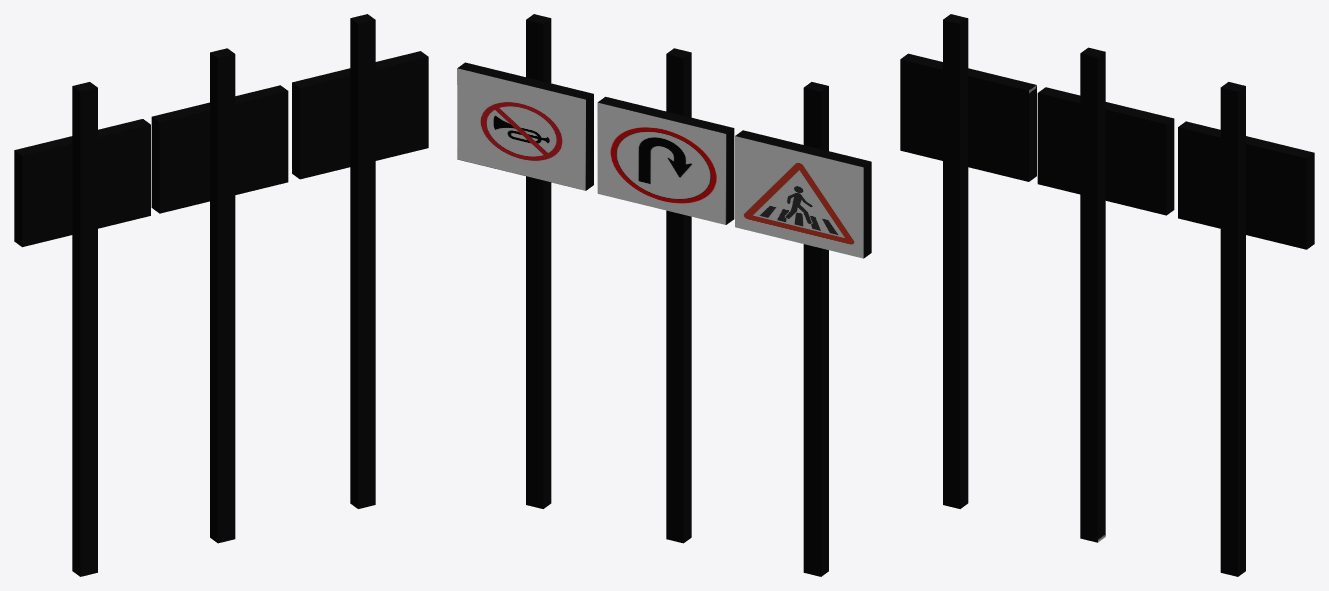
The model's file is board 1.fbx.
The picture shows the model from 3 angles, left to right: view 1: azimuth 30°, elevation 25°; view 2: azimuth 150°, elevation 25°; view 3: azimuth 330°, elevation 25°; orthographic projection.
Parts seen in each view (by area): view 1: no_horn1, no_horn3, no_horn2; view 2: no_horn1, no_horn2, no_horn3; view 3: no_horn1, no_horn2, no_horn3.
Boxes of the visible parts, x1,y1,x2,y2 form: no_horn1: [151, 48, 288, 543]; no_horn3: [14, 82, 150, 576]; no_horn2: [292, 14, 428, 508]; no_horn1: [597, 48, 734, 543]; no_horn2: [457, 14, 593, 508]; no_horn3: [735, 82, 871, 576]; no_horn1: [1037, 47, 1174, 542]; no_horn2: [1178, 82, 1314, 576]; no_horn3: [900, 14, 1036, 508].
Size of the model in its own units: 272 by 311 by 18.27.
Materials: 1 (1 with a texture image).
